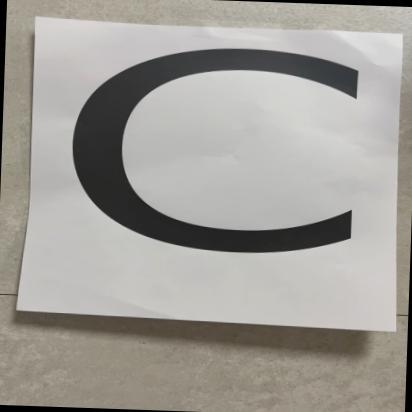seat: (36, 18, 400, 332)
